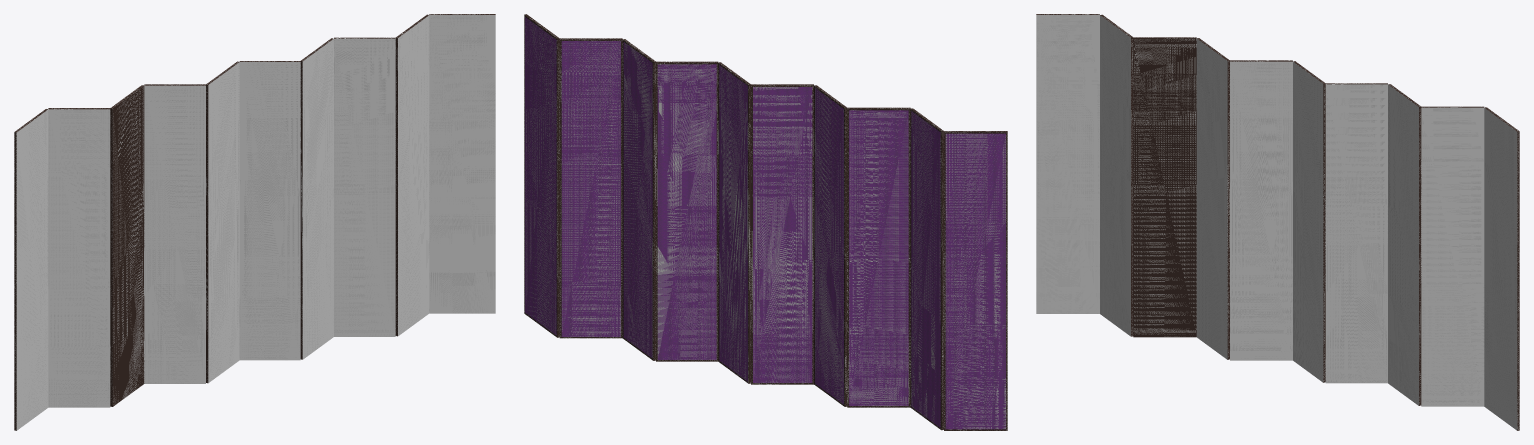
The model's file is korean screen.dae.
3 renders of one model, left to right at view 1: azimuth 30°, elevation 25°; view 2: azimuth 150°, elevation 25°; view 3: azimuth 330°, elevation 25°, orthographic.
Visible parts, largest first — view 1: group_3, group_2, group_7, group_8, group_9, group_4 (×2), group_1 (×2), group_10 (×2), group_5 (×2), group_6 (×2); view 2: group_1 (×2), group_4 (×2), group_6 (×2), group_10 (×2), group_5 (×2), group_3 (×2), group_2 (×2), group_7 (×2), group_8 (×2), group_9 (×2); view 3: group_1, group_10, group_4, group_5, group_6, group_3 (×2), group_8 (×2), group_2 (×2), group_7 (×2), group_9 (×2).
Part boxes in pixels (left/top/right/bottom): group_3: left=429, top=15, right=495, bottom=313; group_2: left=48, top=109, right=110, bottom=407; group_7: left=334, top=38, right=395, bottom=336; group_8: left=144, top=85, right=205, bottom=383; group_9: left=239, top=62, right=300, bottom=360; group_4 (×2): left=14, top=108, right=48, bottom=430; group_1 (×2): left=110, top=85, right=144, bottom=406; group_10 (×2): left=395, top=14, right=429, bottom=336; group_5 (×2): left=206, top=61, right=239, bottom=383; group_6 (×2): left=300, top=38, right=333, bottom=359; group_1 (×2): left=847, top=107, right=910, bottom=407; group_4 (×2): left=944, top=131, right=1007, bottom=430; group_6 (×2): left=656, top=61, right=718, bottom=361; group_10 (×2): left=559, top=38, right=622, bottom=338; group_5 (×2): left=751, top=84, right=813, bottom=384; group_3 (×2): left=524, top=14, right=559, bottom=337; group_2 (×2): left=910, top=108, right=943, bottom=430; group_7 (×2): left=622, top=39, right=655, bottom=360; group_8 (×2): left=814, top=85, right=847, bottom=406; group_9 (×2): left=718, top=62, right=750, bottom=383; group_1: left=1133, top=38, right=1196, bottom=337; group_10: left=1421, top=107, right=1484, bottom=406; group_4: left=1036, top=15, right=1099, bottom=313; group_5: left=1230, top=61, right=1292, bottom=360; group_6: left=1325, top=84, right=1387, bottom=383; group_3 (×2): left=1484, top=107, right=1519, bottom=430; group_8 (×2): left=1196, top=38, right=1229, bottom=359; group_2 (×2): left=1100, top=14, right=1133, bottom=336; group_7 (×2): left=1388, top=84, right=1421, bottom=405; group_9 (×2): left=1293, top=61, right=1325, bottom=382.
Bounding box in the file's own units: 123 × 8.1 × 72.79.
